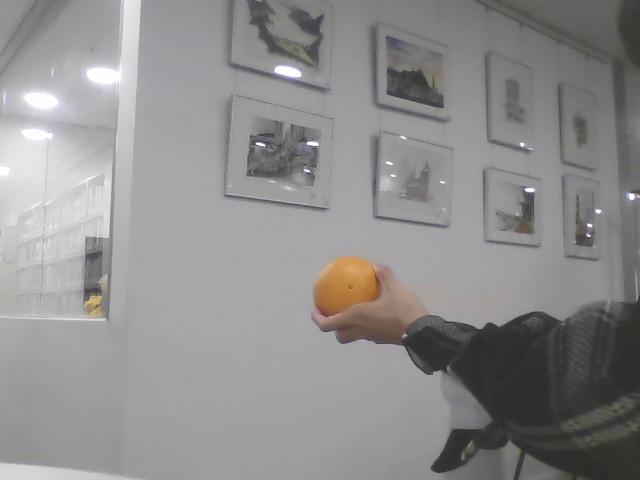orange: (314, 256, 384, 316)
